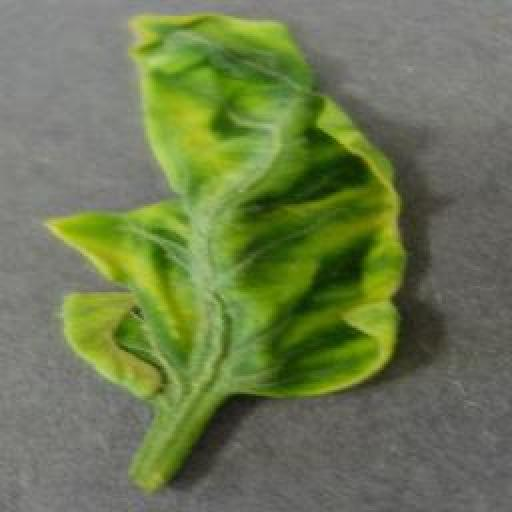disease_tomato: (39, 12, 408, 395)
